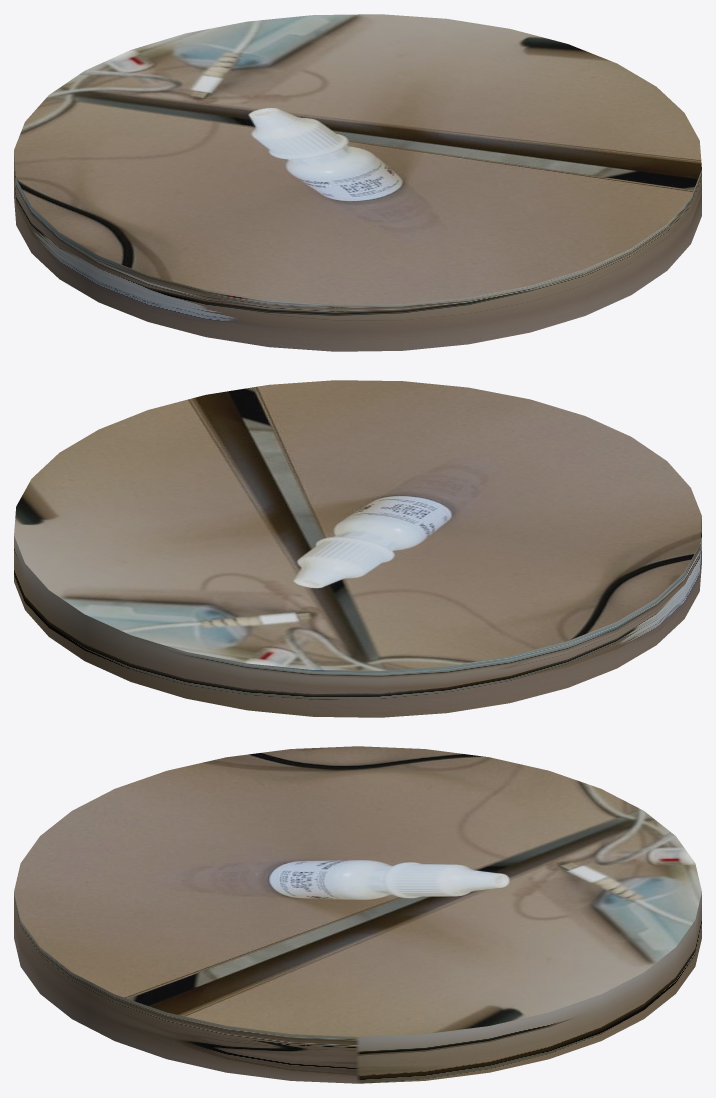
3 renders of one model, top to bottom at view 1: azimuth 30°, elevation 25°; view 2: azimuth 150°, elevation 25°; view 3: azimuth 270°, elevation 25°, orthographic.
Visible parts, largest first — view 1: dishNode; view 2: dishNode; view 3: dishNode.
Boxes of the visible parts, x1,y1,x2,y2 form: dishNode: (14, 14, 701, 351); dishNode: (14, 380, 701, 717); dishNode: (14, 746, 701, 1083).
Bounding box in the file's own units: 2 × 0.15 × 2.
1 material, 1 textured.
